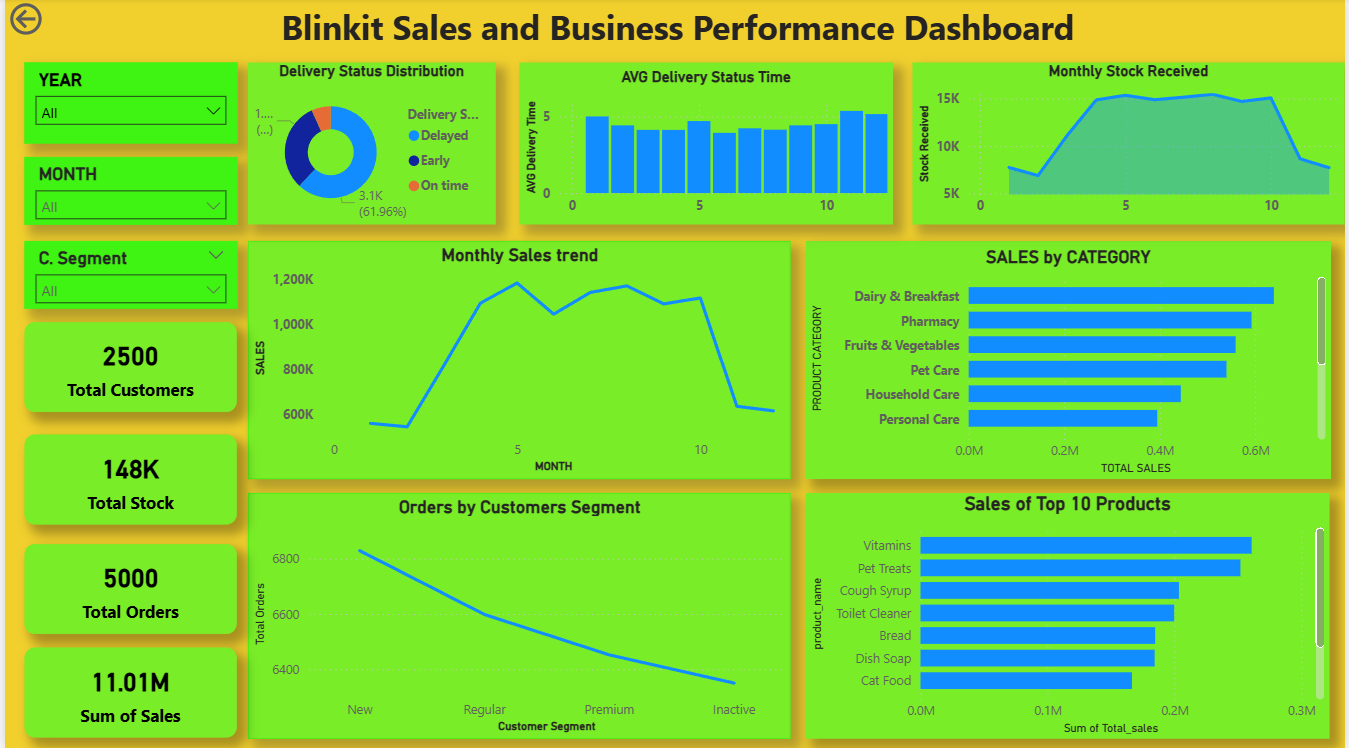

This screenshot's page, from the dashboard's own definition file:
{"tool":"powerbi","page":{"name":"Blinkit Overview","canvas":[1280,720],"ordinal":0},"visuals":[{"type":"textbox","box":[99.9,0,1084.2,62.1],"z":0},{"type":"slicer","fields":{"Values":["Dim_Date.Year"]},"box":[18.6,61.6,203.4,77.3],"z":1000},{"type":"slicer","fields":{"Values":["Dim_Date.Month Name"]},"box":[18.6,151.8,203.4,64.5],"z":2000},{"type":"slicer","fields":{"Values":["blinkit_customers.customer_segment"]},"box":[18.6,232,203.4,64.5],"z":3000},{"type":"lineChart","title":"Monthly Sales trend","fields":{"Category":["Dim_Date.Month Number"],"Y":["Sum(blinkit_orders.Sales)"]},"box":[231.7,231.7,517.9,227.1],"z":4000},{"type":"lineChart","title":"Orders by Customers Segment","fields":{"Category":["blinkit_customers.customer_segment"],"Y":["Sum(blinkit_customers.total_orders)"]},"box":[231.7,472.4,517.9,234.7],"z":5000},{"type":"clusteredBarChart","title":"SALES by CATEGORY","fields":{"Category":["blinkit_products.category"],"Y":["Sum(blinkit_order_items.Total_sales)"]},"box":[764.7,231.7,501.2,227.1],"z":6000},{"type":"clusteredBarChart","title":"Sales of Top 10 Products","fields":{"Y":["Sum(blinkit_order_items.Total_sales)"],"Category":["blinkit_products.product_name"]},"box":[764.7,472.4,499.7,234.7],"z":7000},{"type":"actionButton","box":[0,0,100,40],"z":8000},{"type":"donutChart","title":"Delivery Status Distribution","fields":{"Category":["blinkit_delivery_performance.delivery_status"],"Y":["CountNonNull(blinkit_delivery_performance.order_id)"]},"box":[232,61.6,236.3,154.7],"z":9000},{"type":"clusteredColumnChart","title":"AVG Delivery Status Time","fields":{"Category":["Dim_Date.Month Number"],"Y":["Avg(blinkit_delivery_performance.delivery_time_minutes)"]},"box":[491.3,61.6,356.7,154.7],"z":10000},{"type":"stackedAreaChart","title":"Monthly Stock Received ","fields":{"Y":["Sum(blinkit_inventory.stock_received)"],"Category":["blinkit_inventory.Month"]},"box":[866.6,61.6,412.5,154.7],"z":11000},{"type":"card","fields":{"Values":["Count(blinkit_customers.customer_id)"]},"box":[18.2,308.9,202.9,86.3],"z":12000},{"type":"card","fields":{"Values":["Sum(blinkit_inventory.stock_received)"]},"box":[18.2,416.4,202.9,86.3],"z":13000},{"type":"card","fields":{"Values":["CountNonNull(blinkit_orders.order_id)"]},"box":[18.2,520.9,202.9,86.3],"z":14000},{"type":"card","fields":{"Values":["Sum(blinkit_orders.Sales)"]},"box":[18.2,620.8,202.9,86.3],"z":15000}]}

Visuals, with their boxes in screenshot pixels (x1, y1, x2, y2), scaled from the page's 1280x720 canvas onto the 1349x748 screenshot:
textbox: BBox(105, 0, 1248, 65)
slicer - Dim_Date.Year: BBox(20, 64, 234, 144)
slicer - Dim_Date.Month Name: BBox(20, 158, 234, 225)
slicer - blinkit_customers.customer_segment: BBox(20, 241, 234, 308)
"Monthly Sales trend" lineChart: BBox(244, 241, 790, 477)
"Orders by Customers Segment" lineChart: BBox(244, 491, 790, 735)
"SALES by CATEGORY" clusteredBarChart: BBox(806, 241, 1334, 477)
"Sales of Top 10 Products" clusteredBarChart: BBox(806, 491, 1333, 735)
actionButton: BBox(0, 0, 105, 42)
"Delivery Status Distribution" donutChart: BBox(245, 64, 494, 225)
"AVG Delivery Status Time" clusteredColumnChart: BBox(518, 64, 894, 225)
"Monthly Stock Received " stackedAreaChart: BBox(913, 64, 1348, 225)
card - Count(blinkit_customers.customer_id): BBox(19, 321, 233, 411)
card - Sum(blinkit_inventory.stock_received): BBox(19, 433, 233, 522)
card - CountNonNull(blinkit_orders.order_id): BBox(19, 541, 233, 631)
card - Sum(blinkit_orders.Sales): BBox(19, 645, 233, 735)
